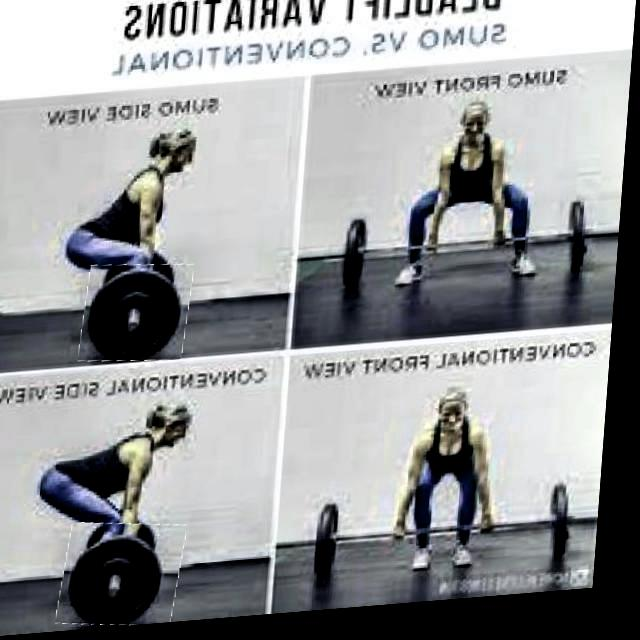barbell: (68, 520, 195, 634), (86, 262, 198, 369)
